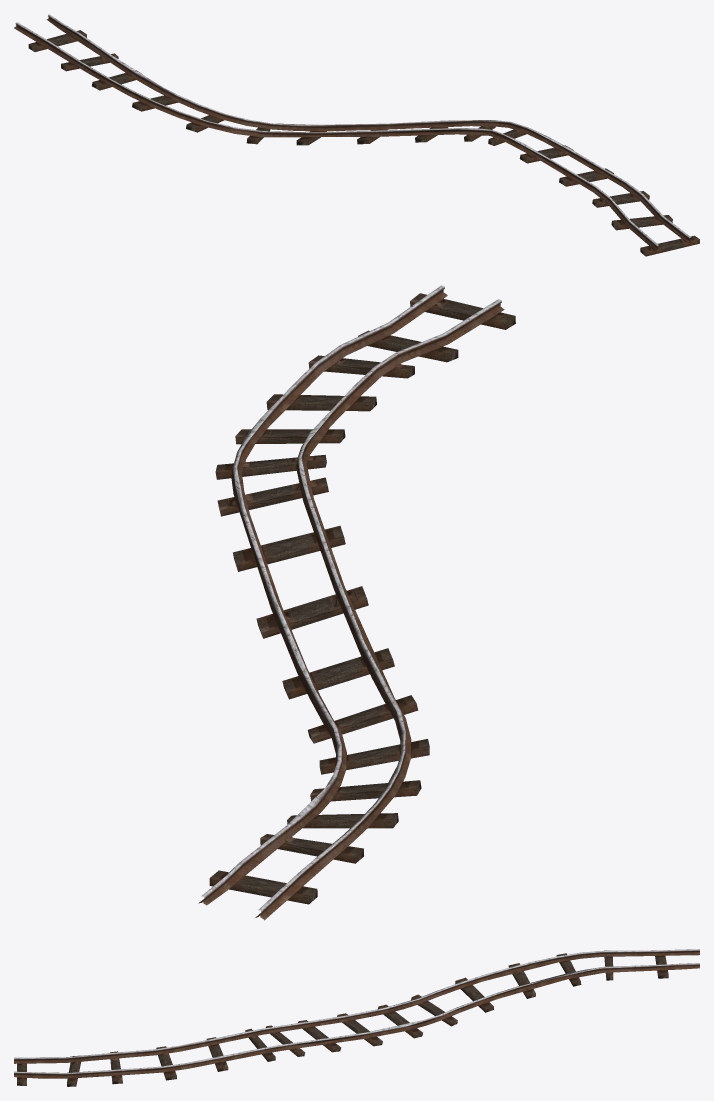
File: mine_tnl_s_left_rail.glb
3 renders of one model, top to bottom at view 1: azimuth 30°, elevation 25°; view 2: azimuth 150°, elevation 25°; view 3: azimuth 270°, elevation 25°, orthographic. The views are drawn at different scales.
Parts seen in each view (by area): view 1: mine_tnl_S_Left_rail; view 2: mine_tnl_S_Left_rail; view 3: mine_tnl_S_Left_rail.
Boxes of the visible parts, left/top/right/bottom form: mine_tnl_S_Left_rail: left=14, top=14, right=699, bottom=256; mine_tnl_S_Left_rail: left=198, top=285, right=515, bottom=920; mine_tnl_S_Left_rail: left=14, top=949, right=699, bottom=1086.
Size of the model in its own units: 10.97 by 1.78 by 24.
1 material, 1 textured.
